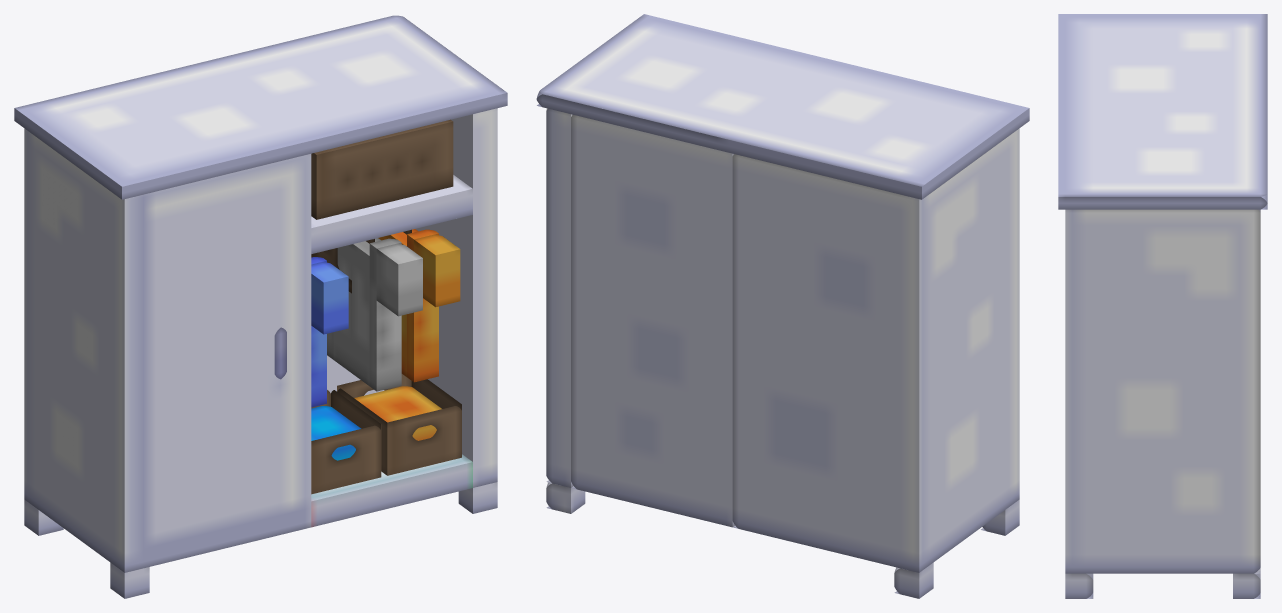
The model's file is cabinetopen_55.obj.
The picture shows the model from 3 angles, left to right: view 1: azimuth 30°, elevation 25°; view 2: azimuth 150°, elevation 25°; view 3: azimuth 270°, elevation 25°; orthographic projection. The views are drawn at different scales.
Bounding box in the file's own units: 1.94 × 2 × 0.9375.
1 material, 1 textured.
